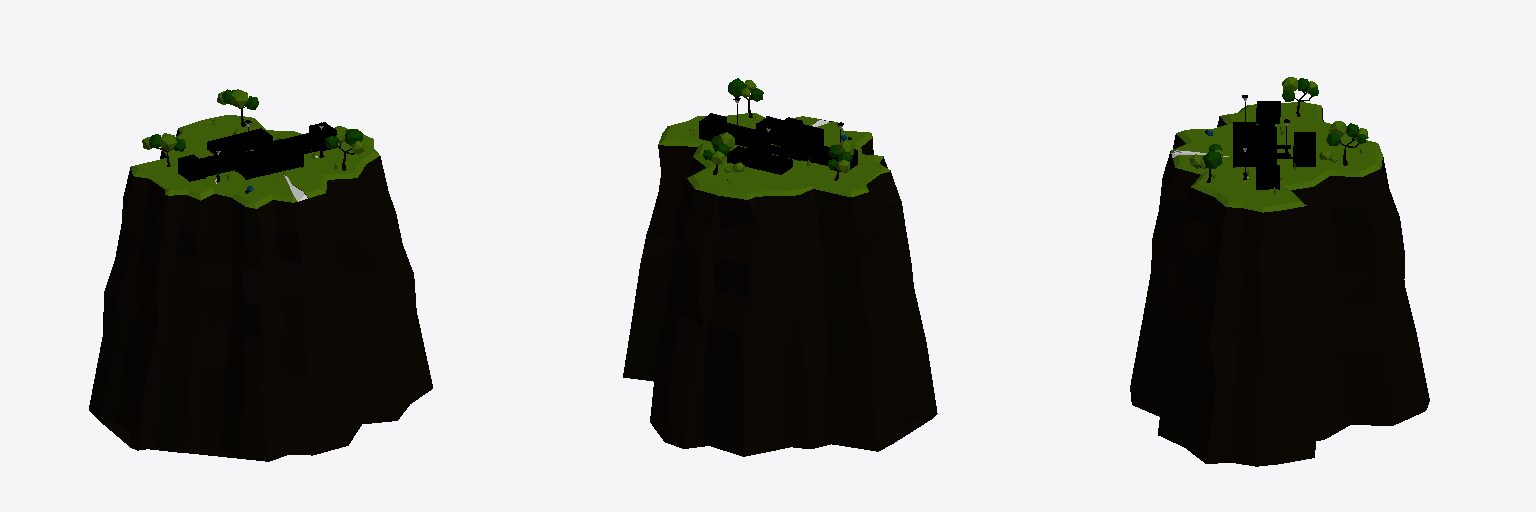
Rendered from animation.obj.
3 renders of one model, left to right at view 1: azimuth 30°, elevation 25°; view 2: azimuth 150°, elevation 25°; view 3: azimuth 270°, elevation 25°, orthographic.
Visible parts, largest first — view 1: Plane, streetlamp.003; view 2: Plane, streetlamp.003; view 3: Plane, streetlamp.003.
Part boxes in pixels (x1,y1,x2,y2): Plane: (89, 115, 432, 461); streetlamp.003: (178, 120, 336, 182); Plane: (623, 113, 937, 456); streetlamp.003: (699, 97, 857, 174); Plane: (1130, 102, 1429, 466); streetlamp.003: (1233, 95, 1315, 189).
Bounding box in the file's own units: 3.59 × 3.31 × 3.19.